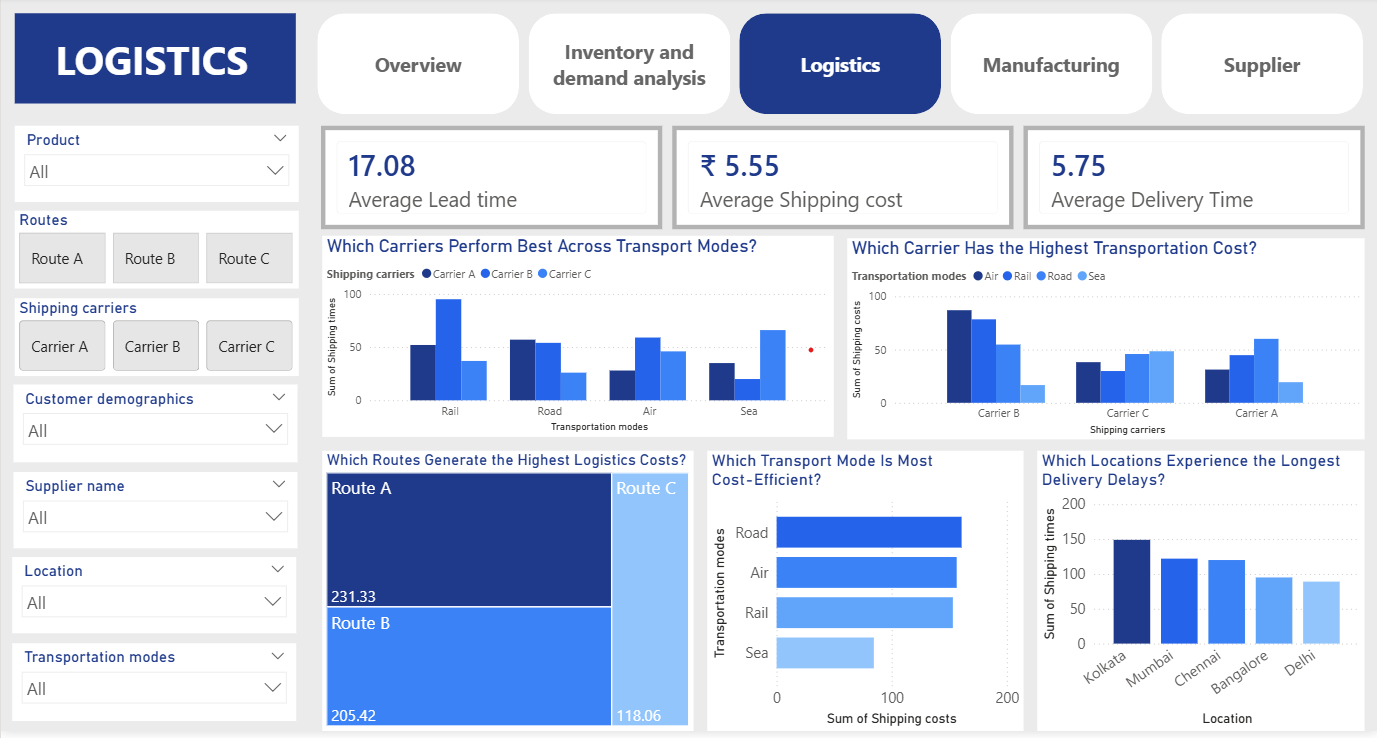

The page's visual inventory and layout, read from the dashboard file:
{"tool":"powerbi","page":{"name":"Logistics","canvas":[1500,800],"ordinal":2},"visuals":[{"type":"treemap","title":"Which Routes Generate the Highest Logistics Costs?","fields":{"Group":["Sheet2.Routes"],"Values":["Sum(Sheet2.Shipping costs)"]},"box":[350.2,494.6,404.7,305.2],"z":0},{"type":"clusteredColumnChart","title":"Which Locations Experience the Longest Delivery Delays?","fields":{"Y":["Sum(Sheet2.Shipping times)"],"Category":["Sheet2.Location"]},"box":[1129.6,494.6,357,305.2],"z":1000},{"type":"clusteredColumnChart","title":"Which Carrier Has the Highest Transportation Cost?","fields":{"Category":["Sheet2.Shipping carriers"],"Y":["Sum(Sheet2.Shipping costs)"],"Series":["Sheet2.Transportation modes"]},"box":[922.5,263,564.1,219.4],"z":2000},{"type":"clusteredColumnChart","title":"Which Carriers Perform Best Across Transport Modes?","fields":{"Y":["Sum(Sheet2.Shipping times)"],"Category":["Sheet2.Transportation modes"],"Series":["Sheet2.Shipping carriers"]},"box":[350.2,260.3,557.3,219.4],"z":3000},{"type":"clusteredBarChart","title":"Which Transport Mode Is Most Cost-Efficient?","fields":{"Category":["Sheet2.Transportation modes"],"Y":["Sum(Sheet2.Shipping costs)"]},"box":[769.9,494.6,344.8,305.2],"z":4000},{"type":"cardVisual","fields":{"Data":["Avg(Sheet2.Shipping costs)"]},"box":[731.7,140.4,372,113.1],"z":5000},{"type":"cardVisual","fields":{"Data":["Avg(Sheet2.Lead time)"]},"box":[348.8,140.4,372,113.1],"z":6000},{"type":"cardVisual","fields":{"Data":["Sheet2.Avg Delivery Time"]},"box":[1114.6,140.4,372,113.1],"z":7000},{"type":"textbox","box":[15,17.7,306.6,98.1],"z":8000},{"type":"pageNavigator","box":[344.8,17.7,1141.9,110.4],"z":9000},{"type":"slicer","fields":{"Values":["Sheet2.Product "]},"box":[15,140.4,309.3,83.1],"z":10000},{"type":"advancedSlicerVisual","fields":{"Values":["Sheet2.Routes"]},"box":[15,233,309.3,84.5],"z":11000},{"type":"slicer","fields":{"Values":["Sheet2.Supplier name"]},"box":[13.6,517.8,309.3,83.1],"z":12000},{"type":"slicer","fields":{"Values":["Sheet2.Location"]},"box":[12.3,610.5,309.3,83.1],"z":13000},{"type":"advancedSlicerVisual","fields":{"Values":["Sheet2.Shipping carriers"]},"box":[15,328.4,309.3,84.5],"z":14000},{"type":"slicer","fields":{"Values":["Sheet2.Customer demographics"]},"box":[13.6,422.4,309.3,84.5],"z":15000},{"type":"slicer","fields":{"Values":["Sheet2.Transportation modes"]},"box":[12.3,704.5,309.3,84.5],"z":16000},{"type":"textbox","box":[54.5,34.1,237.1,72.2],"z":17000}]}

Visuals, with their boxes in screenshot pixels (x1, y1, x2, y2), scaled from the page's 1500x800 canvas onto the 1377x738 screenshot:
"Which Routes Generate the Highest Logistics Costs?" treemap: x1=321 y1=456 x2=693 y2=737
"Which Locations Experience the Longest Delivery Delays?" clusteredColumnChart: x1=1037 y1=456 x2=1365 y2=737
"Which Carrier Has the Highest Transportation Cost?" clusteredColumnChart: x1=847 y1=243 x2=1365 y2=445
"Which Carriers Perform Best Across Transport Modes?" clusteredColumnChart: x1=321 y1=240 x2=833 y2=443
"Which Transport Mode Is Most Cost-Efficient?" clusteredBarChart: x1=707 y1=456 x2=1023 y2=737
cardVisual - Avg(Sheet2.Shipping costs): x1=672 y1=130 x2=1013 y2=234
cardVisual - Avg(Sheet2.Lead time): x1=320 y1=130 x2=662 y2=234
cardVisual - Sheet2.Avg Delivery Time: x1=1023 y1=130 x2=1365 y2=234
textbox: x1=14 y1=16 x2=295 y2=107
pageNavigator: x1=317 y1=16 x2=1365 y2=118
slicer - Sheet2.Product : x1=14 y1=130 x2=298 y2=206
advancedSlicerVisual - Sheet2.Routes: x1=14 y1=215 x2=298 y2=293
slicer - Sheet2.Supplier name: x1=12 y1=478 x2=296 y2=554
slicer - Sheet2.Location: x1=11 y1=563 x2=295 y2=640
advancedSlicerVisual - Sheet2.Shipping carriers: x1=14 y1=303 x2=298 y2=381
slicer - Sheet2.Customer demographics: x1=12 y1=390 x2=296 y2=468
slicer - Sheet2.Transportation modes: x1=11 y1=650 x2=295 y2=728
textbox: x1=50 y1=31 x2=268 y2=98
